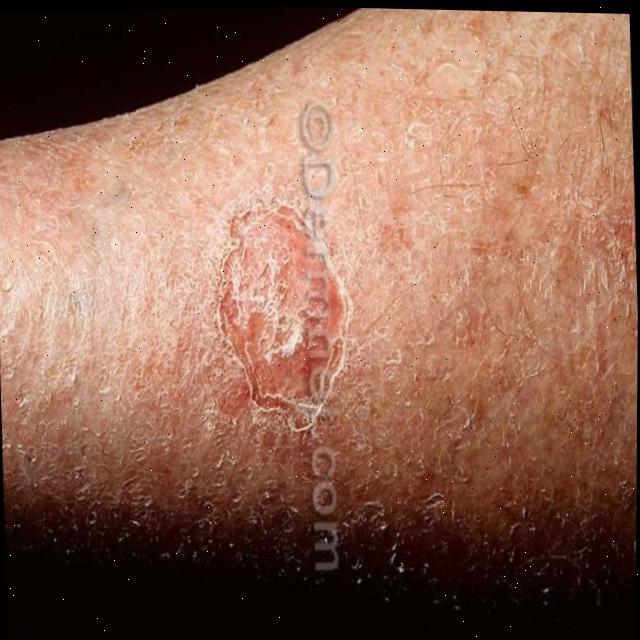Eczema: (216, 205, 360, 429)
